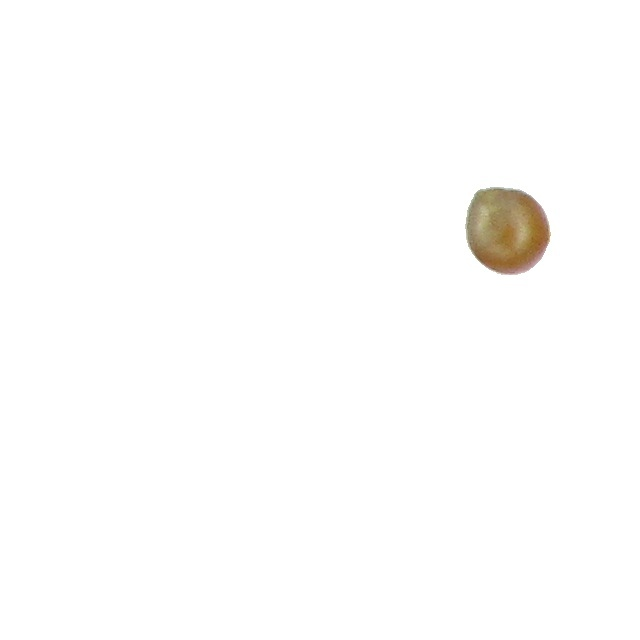mais: (464, 186, 552, 276)
